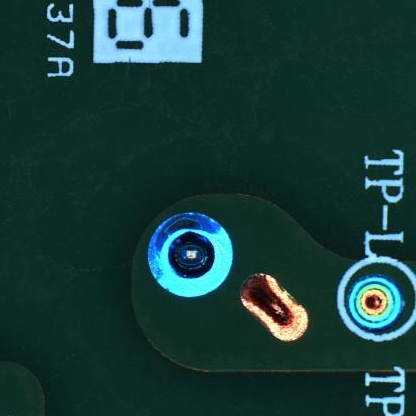spot: (147, 211, 232, 300), (348, 275, 404, 331)
